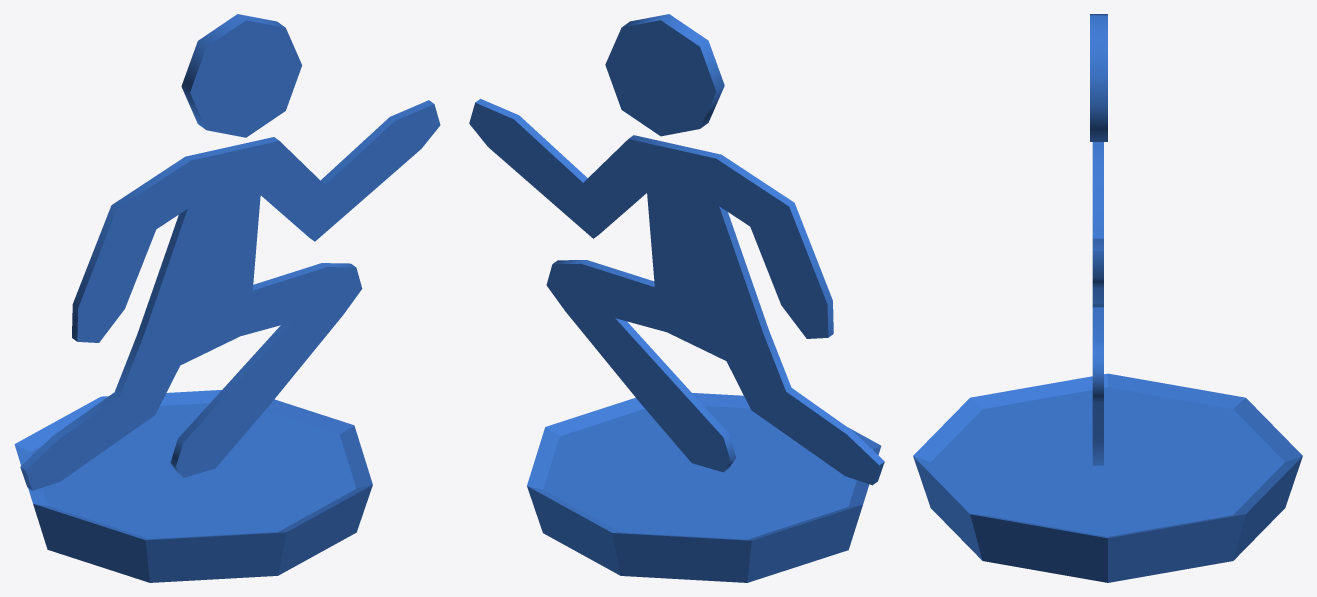
Rendered from Player-Piece-Run.fbx.
3 renders of one model, left to right at view 1: azimuth 30°, elevation 25°; view 2: azimuth 150°, elevation 25°; view 3: azimuth 270°, elevation 25°, orthographic. The views are drawn at different scales.
Parts seen in each view (by area): view 1: Player-Piece-Run; view 2: Player-Piece-Run; view 3: Player-Piece-Run.
Part boxes in pixels (box(x1,y1,x2,y2)): Player-Piece-Run: box(14, 14, 440, 582); Player-Piece-Run: box(469, 14, 884, 582); Player-Piece-Run: box(913, 14, 1302, 582).
Size of the model in its own units: 334 by 376 by 258.
Materials: 1 (1 with a texture image).
